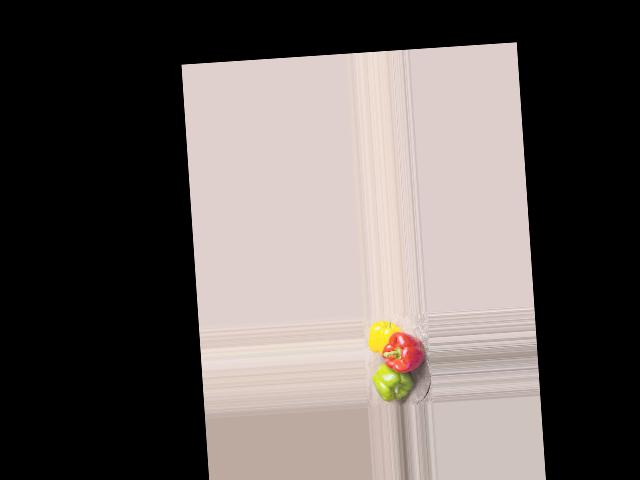bell_pepper: (365, 319, 404, 353)
